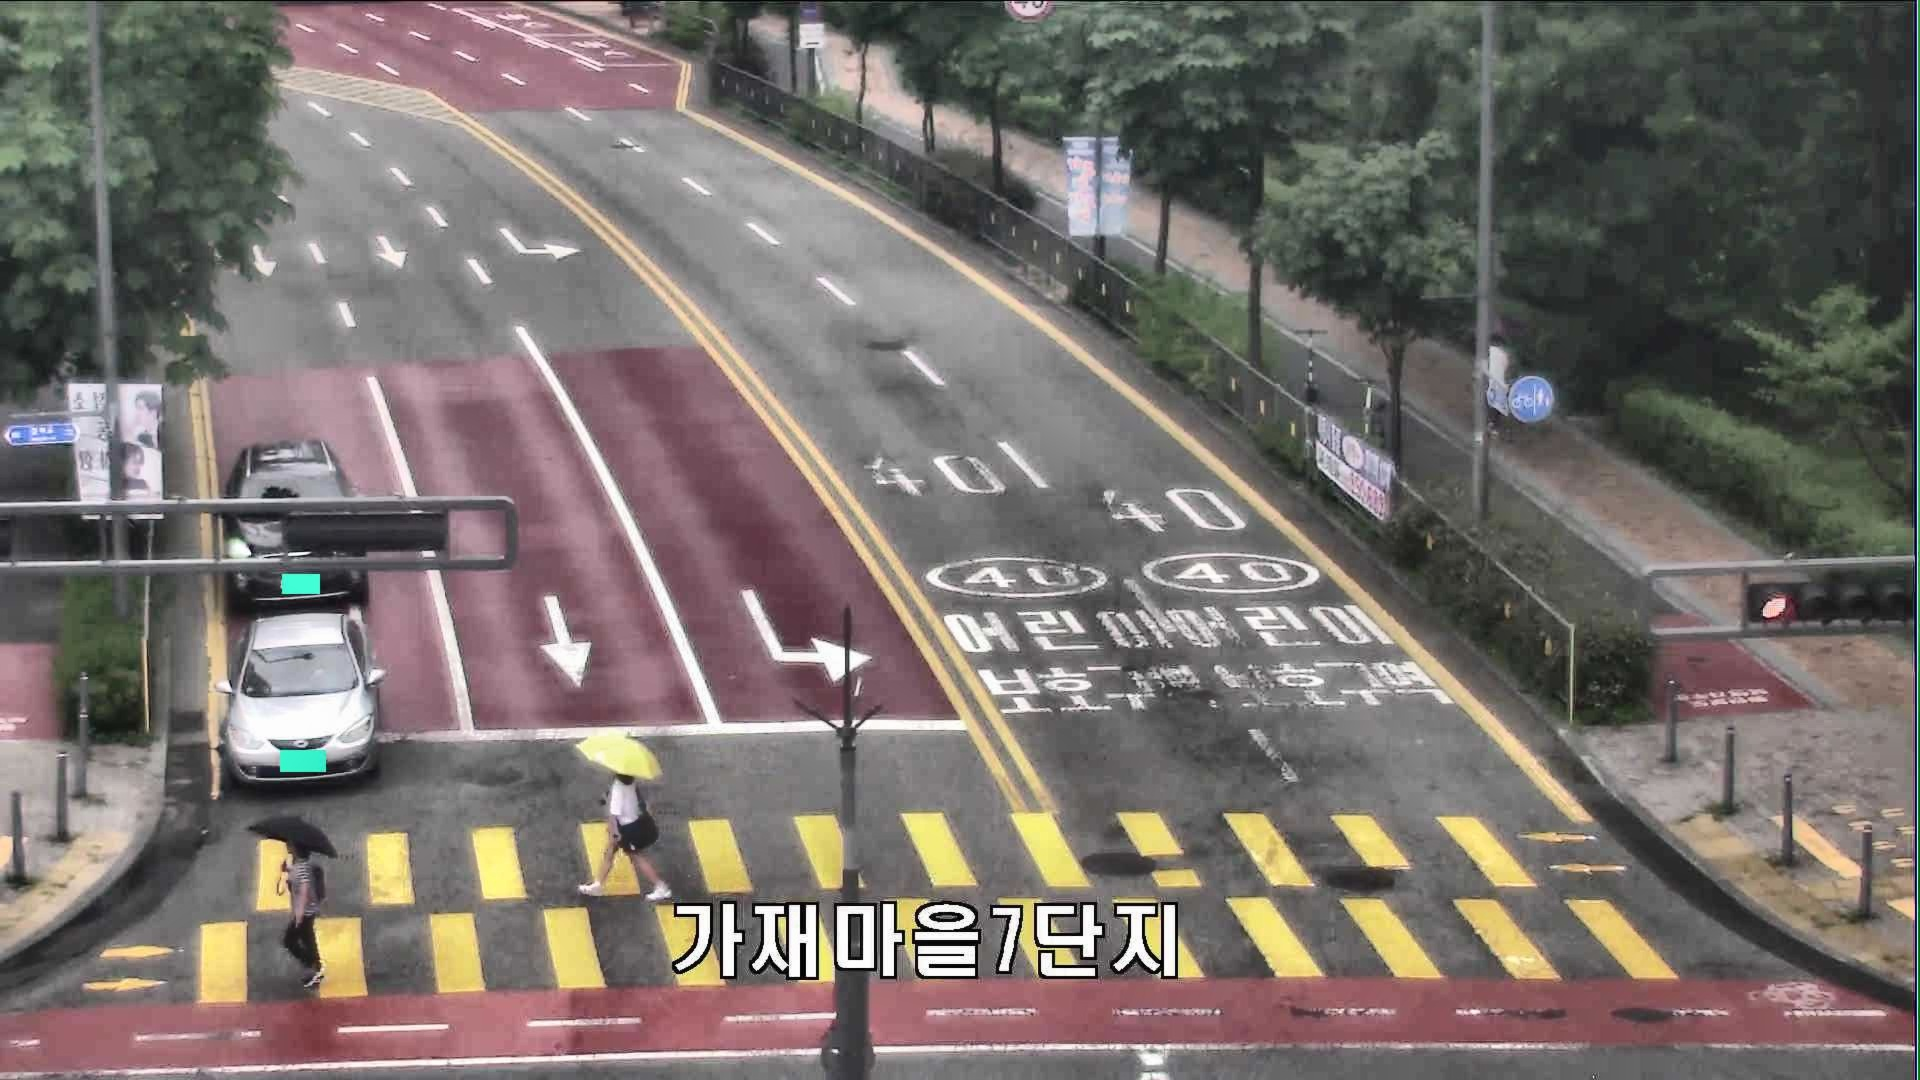um_crosswalk: (576, 735, 670, 903), (249, 816, 336, 989)
um_sidewalk: (1482, 315, 1524, 436)
